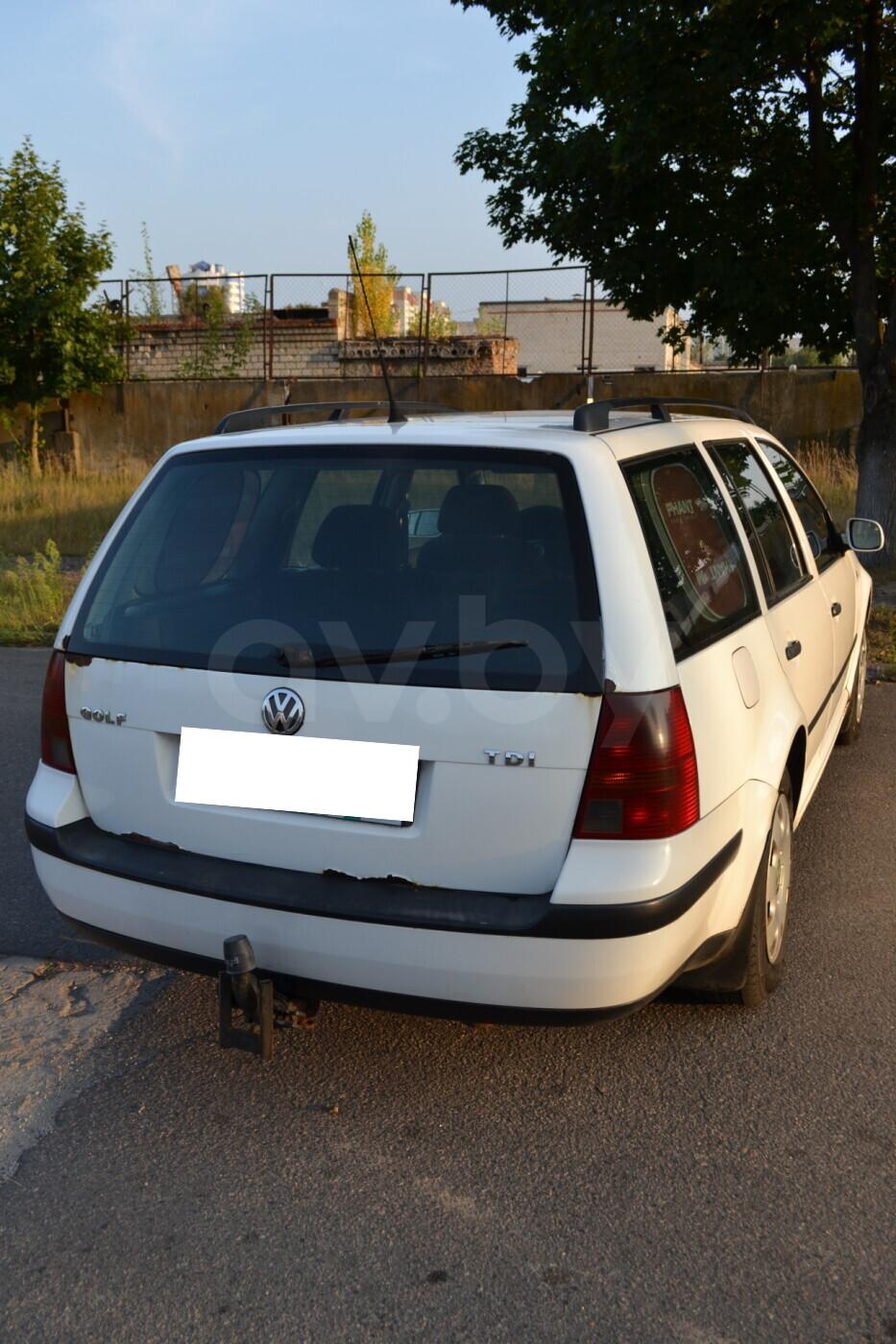Golf_1997-2006: (26, 394, 896, 1000)
